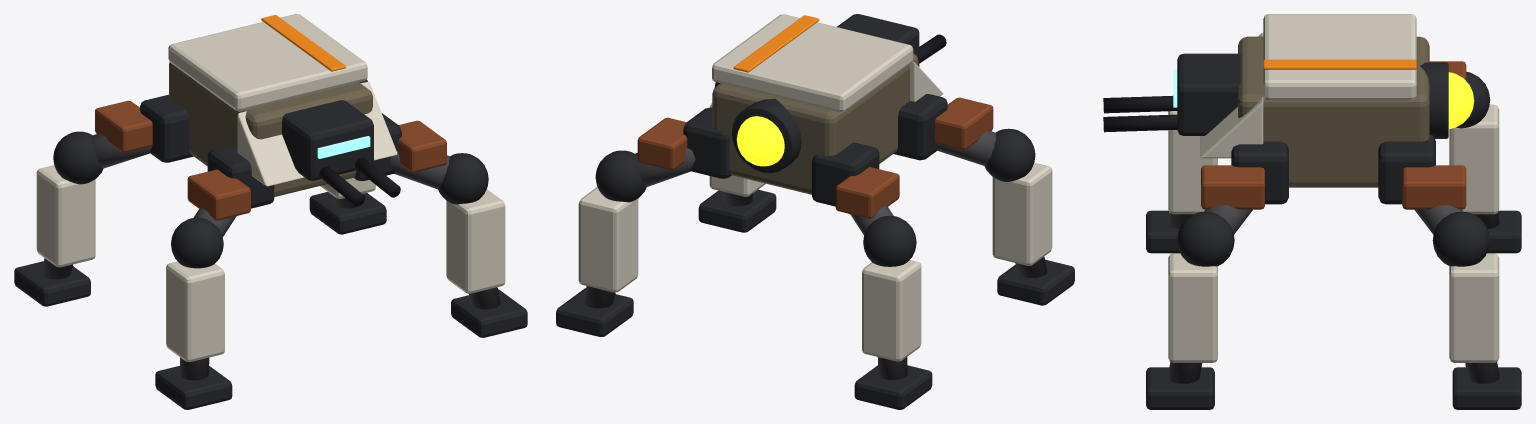
The model's file is Sentinel.fbx.
3 views of the same model, side by side, from view 1: azimuth 30°, elevation 25°; view 2: azimuth 150°, elevation 25°; view 3: azimuth 270°, elevation 25° (orthographic). The views are drawn at different scales.
Parts seen in each view (by area): view 1: Part__SmoothPlastic__d9d2c3, Part__Metal__2b2c30, Part__Metal__6e6450, Part__CorrodedMetal__8a4a2c, Part__Metal__4a4a4f, Part__Metal__38383d, Part__Metal__1e1e22, Part__SmoothPlastic__ff8c1e, Eye__Neon__50c8ff; view 2: Part__SmoothPlastic__d9d2c3, Part__Metal__2b2c30, Part__Metal__6e6450, Part__CorrodedMetal__8a4a2c, Part__Metal__4a4a4f, Part__Metal__38383d, WeakPoint__Neon__ff8c1e, Part__SmoothPlastic__ff8c1e; view 3: Part__SmoothPlastic__d9d2c3, Part__Metal__2b2c30, Part__Metal__6e6450, Part__CorrodedMetal__8a4a2c, Part__Metal__1e1e22, Part__Metal__38383d, Part__SmoothPlastic__ff8c1e, Part__Metal__4a4a4f, WeakPoint__Neon__ff8c1e.
Boxes of the visible parts, left/top/right/bottom form: Part__SmoothPlastic__d9d2c3: left=36, top=14, right=505, bottom=361; Part__Metal__2b2c30: left=14, top=79, right=527, bottom=409; Part__Metal__6e6450: left=169, top=62, right=372, bottom=196; Part__CorrodedMetal__8a4a2c: left=95, top=100, right=446, bottom=220; Part__Metal__4a4a4f: left=92, top=133, right=449, bottom=236; Part__Metal__38383d: left=41, top=196, right=500, bottom=380; Part__Metal__1e1e22: left=319, top=158, right=400, bottom=206; Part__SmoothPlastic__ff8c1e: left=261, top=15, right=346, bottom=71; Eye__Neon__50c8ff: left=317, top=136, right=370, bottom=158; Part__SmoothPlastic__d9d2c3: left=578, top=14, right=1052, bottom=361; Part__Metal__2b2c30: left=556, top=14, right=1074, bottom=409; Part__Metal__6e6450: left=712, top=53, right=918, bottom=194; Part__CorrodedMetal__8a4a2c: left=637, top=97, right=993, bottom=218; Part__Metal__4a4a4f: left=634, top=131, right=996, bottom=235; Part__Metal__38383d: left=583, top=192, right=1047, bottom=380; WeakPoint__Neon__ff8c1e: left=736, top=116, right=784, bottom=166; Part__SmoothPlastic__ff8c1e: left=733, top=15, right=819, bottom=72; Part__SmoothPlastic__d9d2c3: left=1168, top=14, right=1499, bottom=362; Part__Metal__2b2c30: left=1146, top=53, right=1521, bottom=409; Part__Metal__6e6450: left=1238, top=36, right=1429, bottom=187; Part__CorrodedMetal__8a4a2c: left=1201, top=61, right=1466, bottom=209; Part__Metal__1e1e22: left=1103, top=96, right=1177, bottom=132; Part__Metal__38383d: left=1168, top=212, right=1499, bottom=383; Part__SmoothPlastic__ff8c1e: left=1263, top=59, right=1416, bottom=69; Part__Metal__4a4a4f: left=1204, top=205, right=1463, bottom=234; WeakPoint__Neon__ff8c1e: left=1448, top=72, right=1474, bottom=128.
Size of the model in its own units: 6.76 by 4.82 by 6.54.
